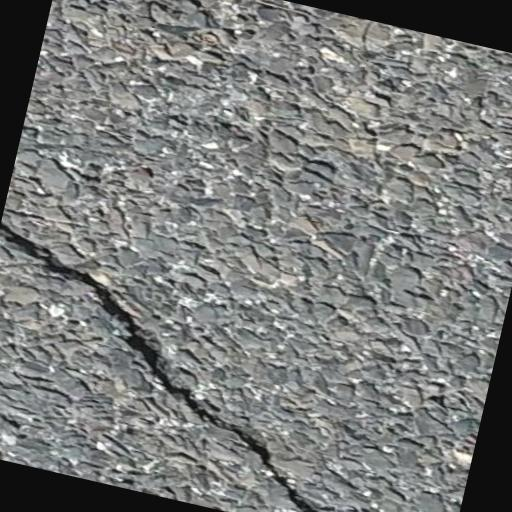spalling: (2, 218, 325, 512)
